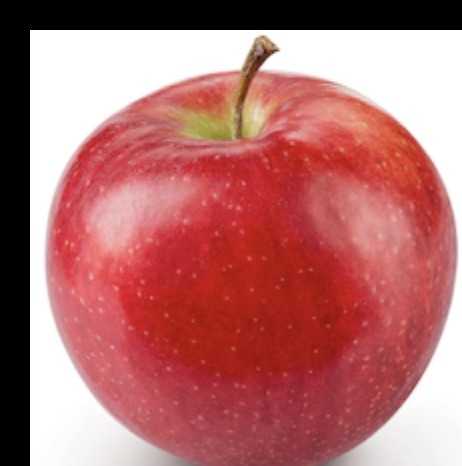fresh_apple: (49, 71, 456, 466)
